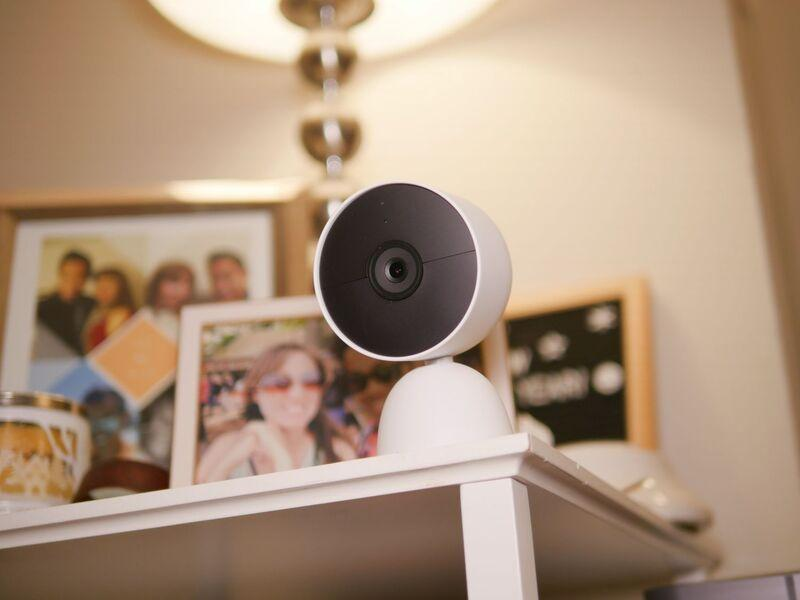nest: (300, 166, 518, 368)
